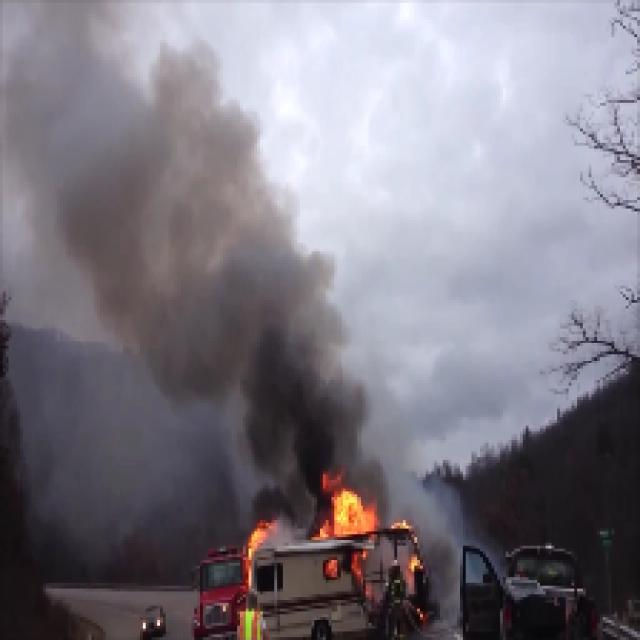fire: (324, 493, 382, 544)
smoke: (11, 3, 238, 440), (246, 188, 374, 471)
